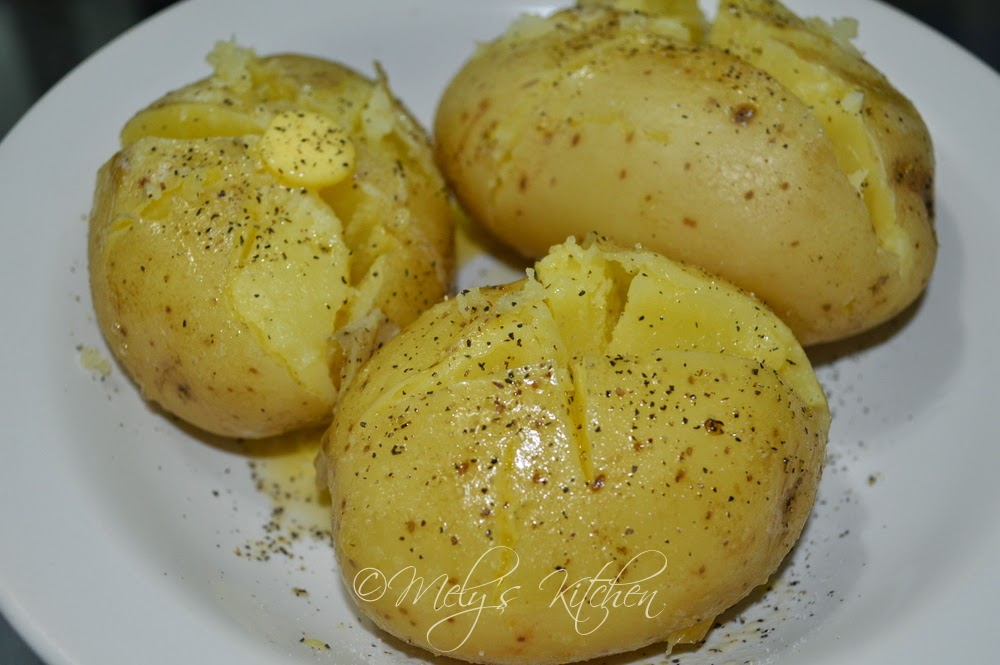boiled potatoes: (326, 261, 818, 652), (447, 7, 928, 346), (102, 53, 440, 450)
